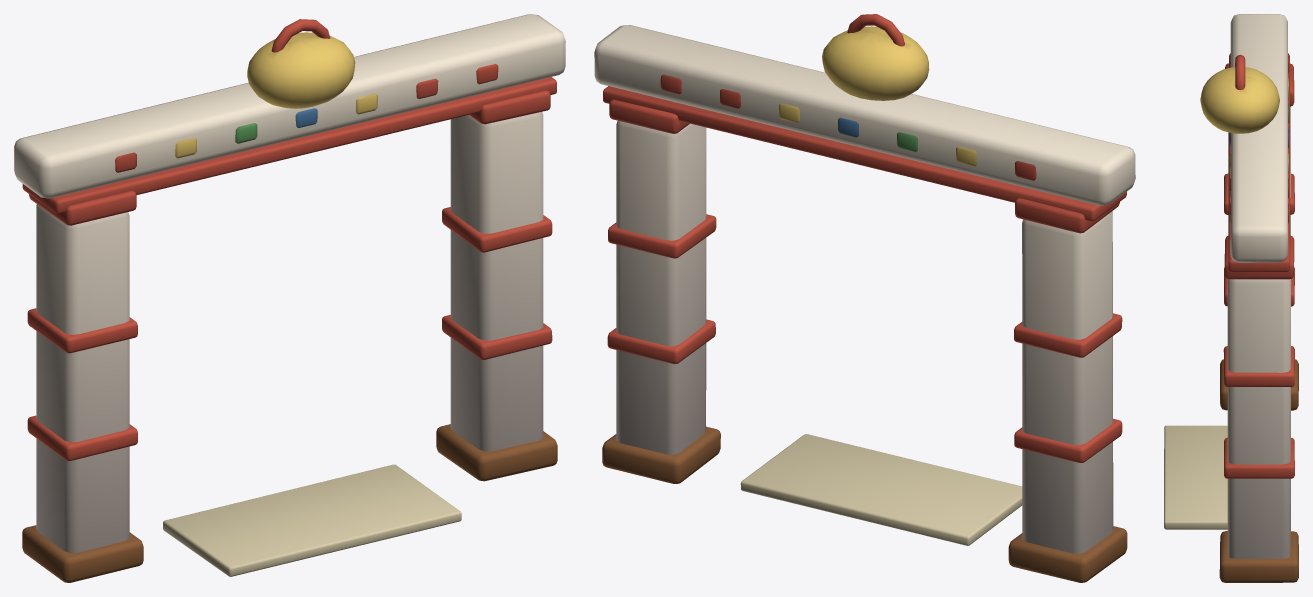
3 views of the same model, side by side, from view 1: azimuth 30°, elevation 25°; view 2: azimuth 150°, elevation 25°; view 3: azimuth 270°, elevation 25° (orthographic). The views are drawn at different scales.
Visible parts, largest first — view 1: gate_b45f20ad; view 2: gate_b45f20ad; view 3: gate_b45f20ad.
Part boxes in pixels (x1,y1,x2,y2): gate_b45f20ad: [14, 14, 565, 582]; gate_b45f20ad: [594, 14, 1135, 582]; gate_b45f20ad: [1164, 14, 1298, 582].
Size of the model in its own units: 5.42 by 4.91 by 1.41.
